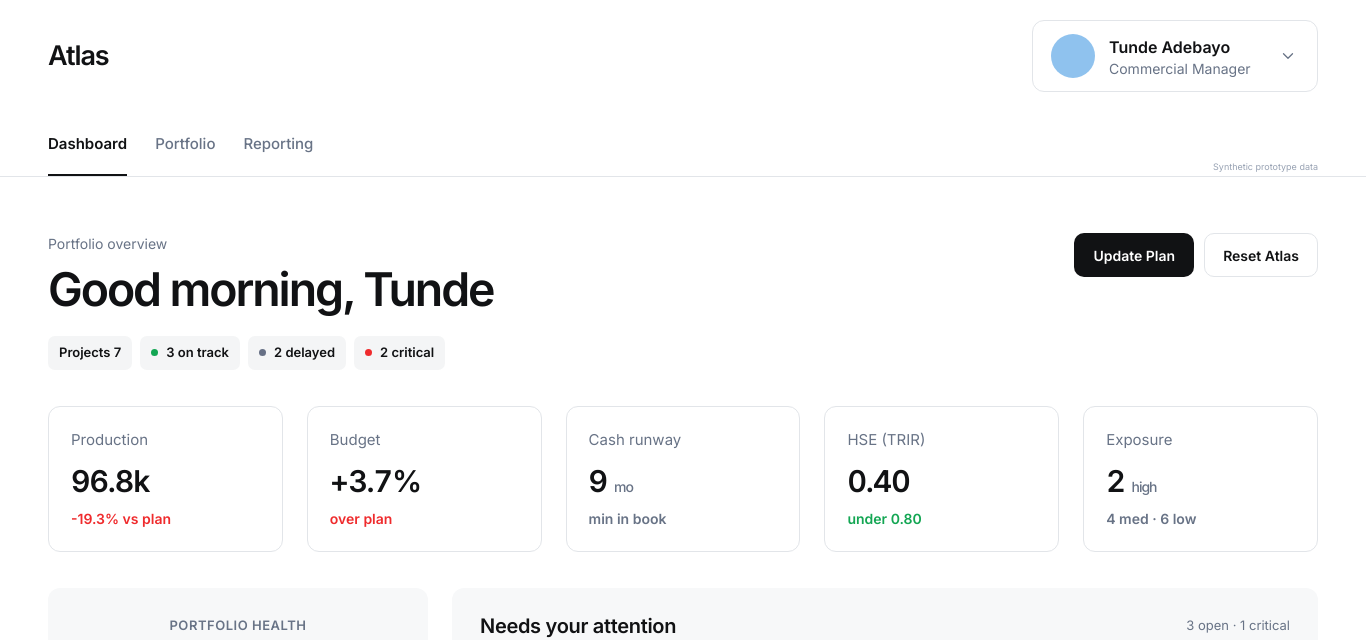
Test case: route architecture › consolidates department managers into one Manager role and two-item navigation
Step 1. Select "Manager" in the dropdown named "Active demo persona" → (1175, 56), box [1032, 20, 1318, 92]
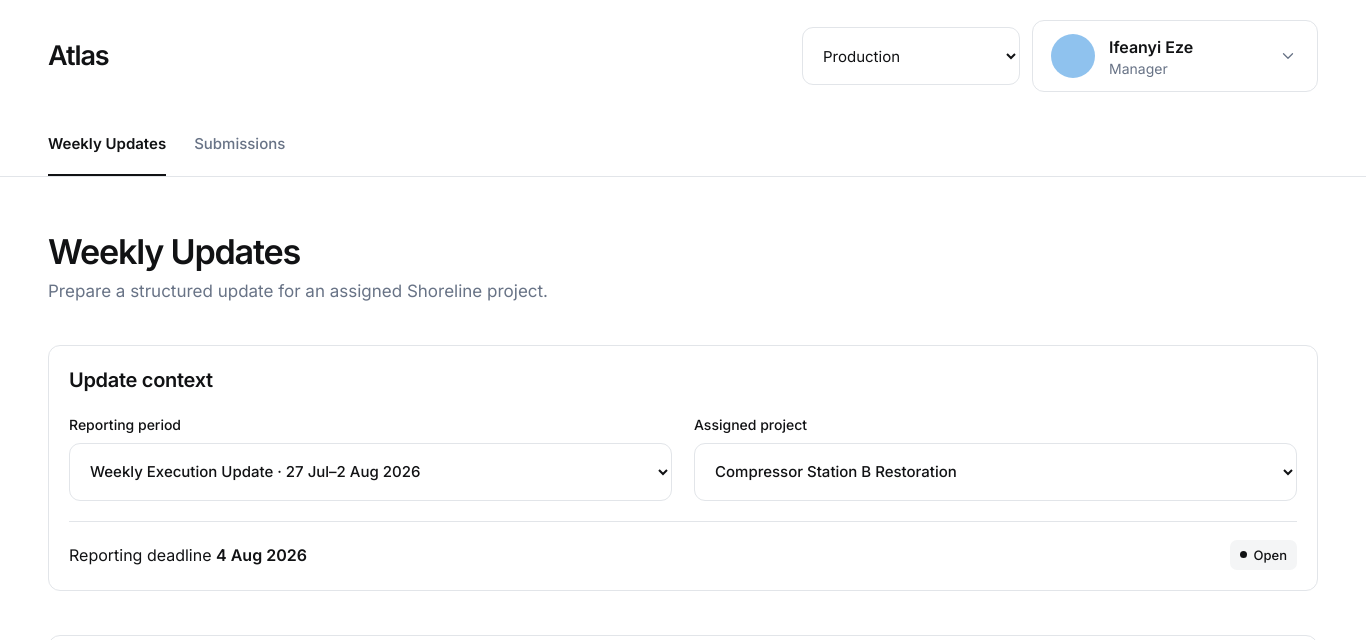
Now the heading "Weekly Updates" is shown, box [48, 231, 300, 272]
Now the number of links is 2, box [48, 112, 166, 176]; [194, 134, 285, 153]
Now the navigation bar named "Manager navigation" reads "Weekly Updates Submissions", box [48, 134, 285, 153]
Step 2. Select "Finance" in the dropdown named "Department workspace" → (911, 56), box [802, 27, 1020, 85]
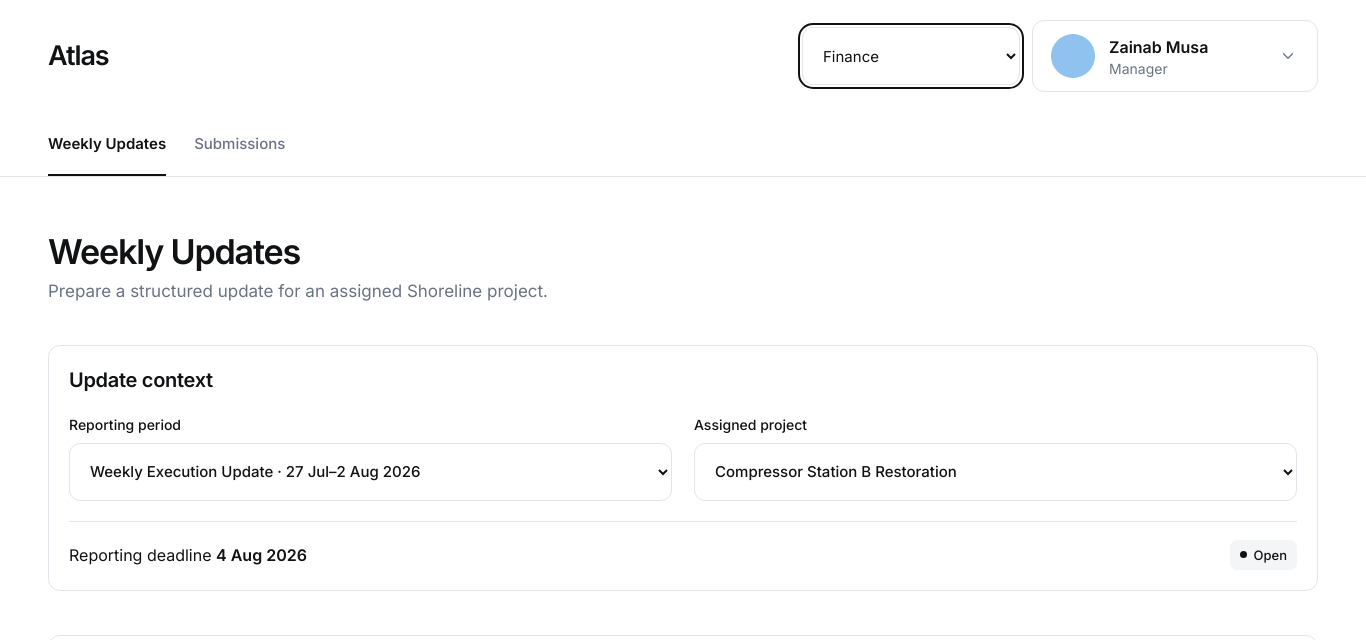
Step 3. Select "Subsea" in the dropdown named "Department workspace" → (911, 56), box [802, 27, 1020, 85]
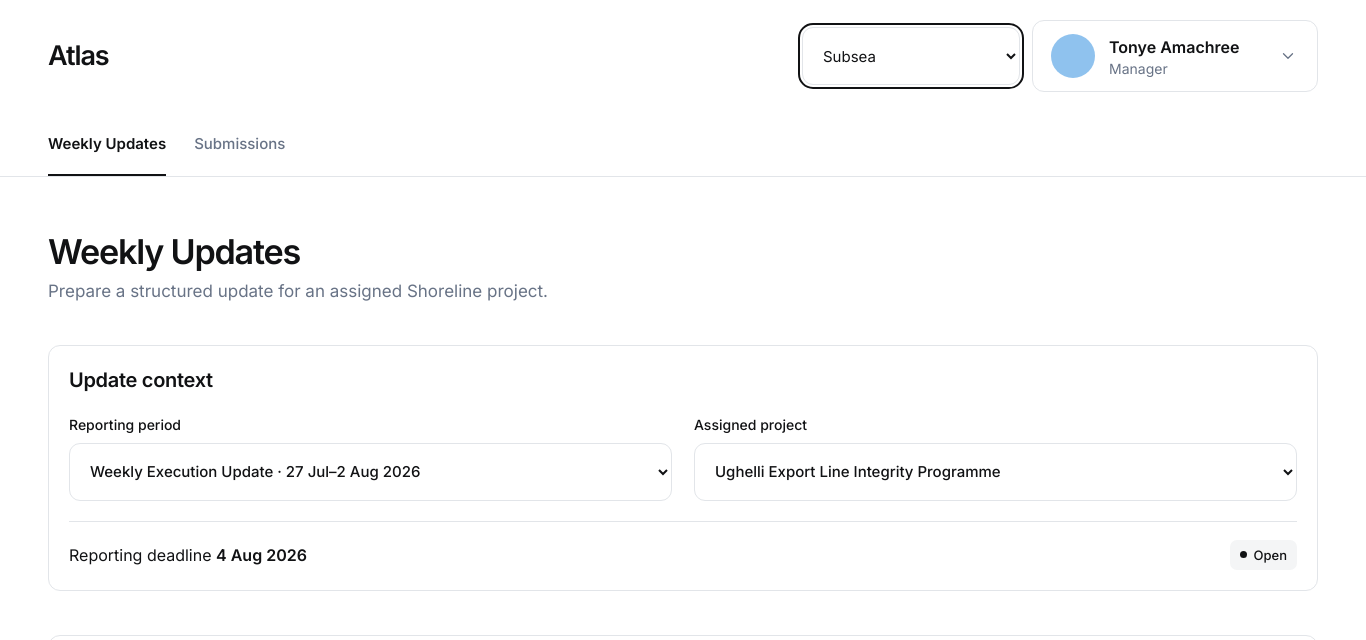
Now the text "Tonye Amachree" is shown, box [1109, 36, 1240, 56]
Step 4. Select "Commercial & Planning" in the dropdown named "Department workspace" → (911, 56), box [802, 27, 1020, 85]
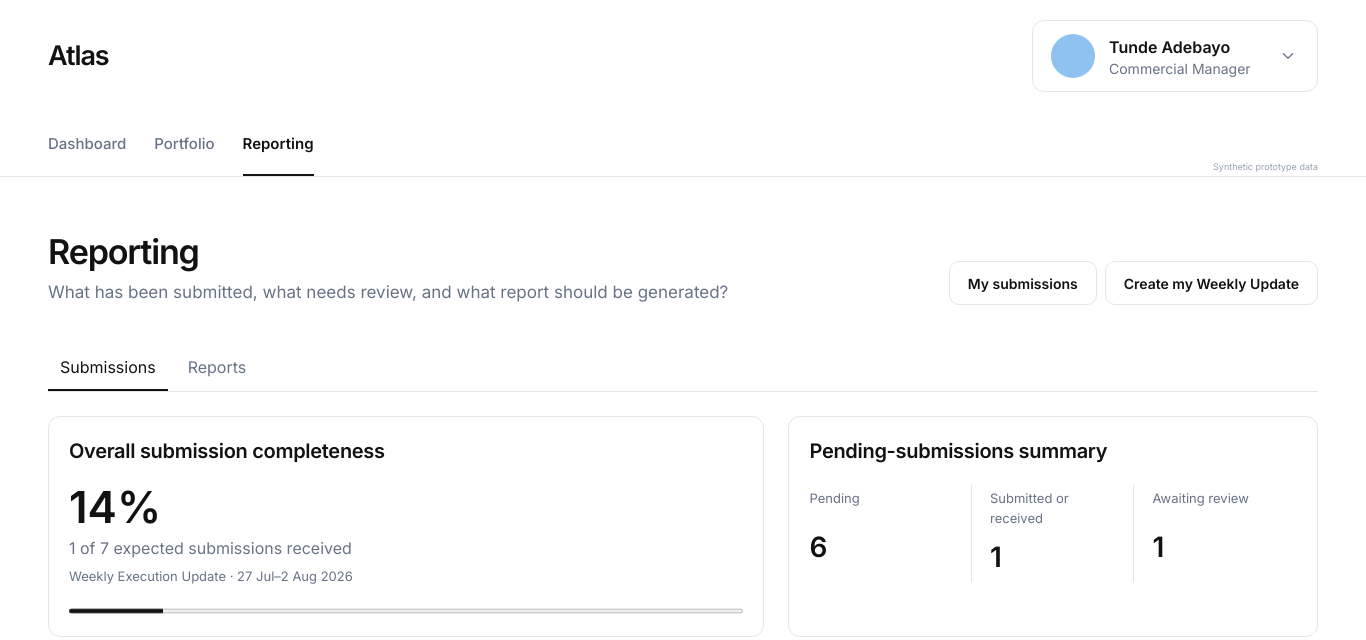
Now the heading "Reporting" is shown, box [48, 231, 199, 272]
